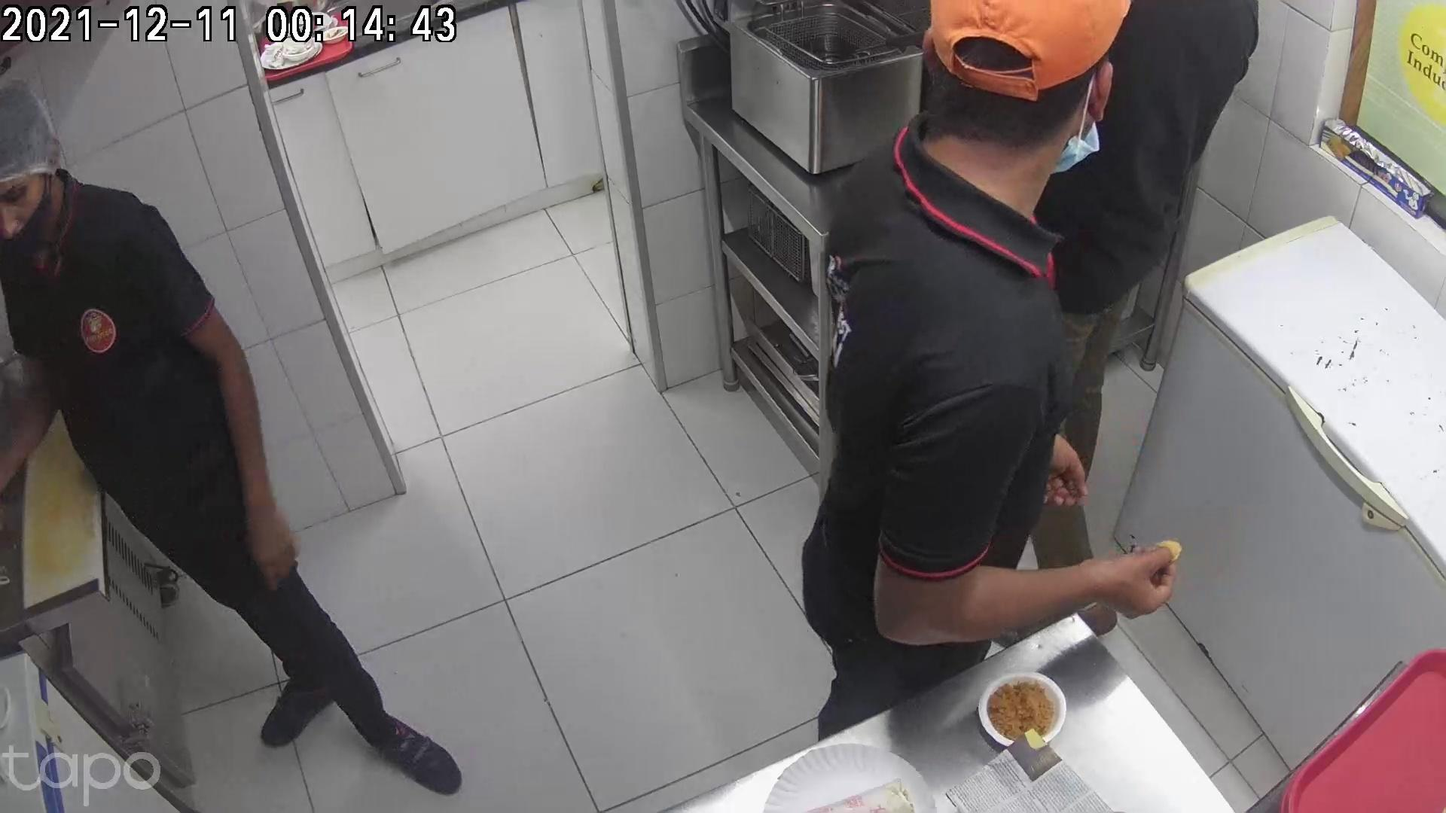gloves: (587, 551, 694, 750)
